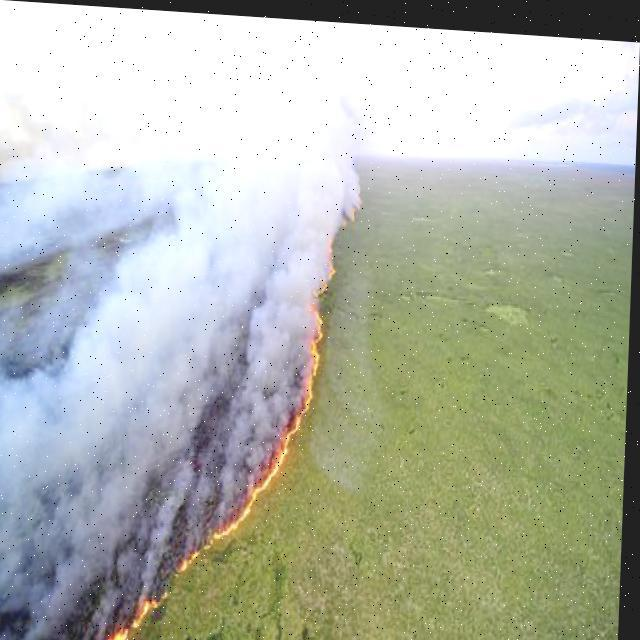Fire: (97, 169, 369, 639)
